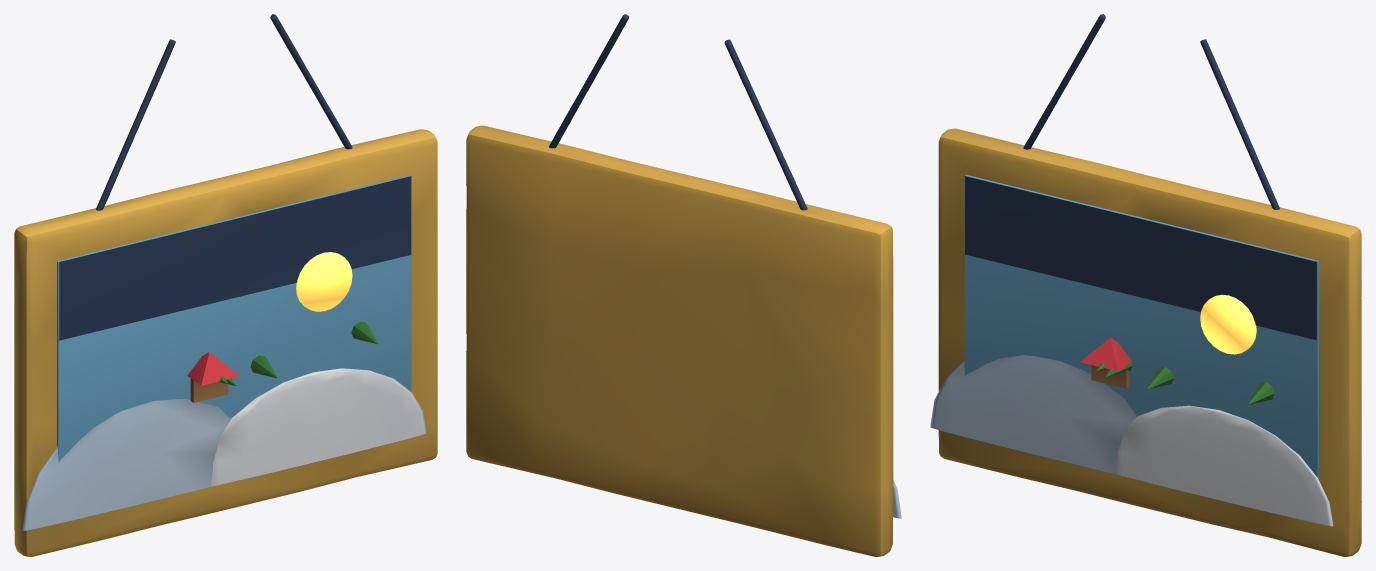
File: frost_picture_frame.glb
3 views of the same model, side by side, from view 1: azimuth 30°, elevation 25°; view 2: azimuth 150°, elevation 25°; view 3: azimuth 330°, elevation 25° (orthographic).
Parts seen in each view (by area): view 1: frost_picture_frame; view 2: frost_picture_frame; view 3: frost_picture_frame.
Boxes of the visible parts, box(x1,y1,x2,y2) form: frost_picture_frame: box(14, 14, 437, 556); frost_picture_frame: box(466, 14, 901, 556); frost_picture_frame: box(930, 14, 1361, 556).
Bounding box in the file's own units: 16.17 × 17.54 × 2.31.
